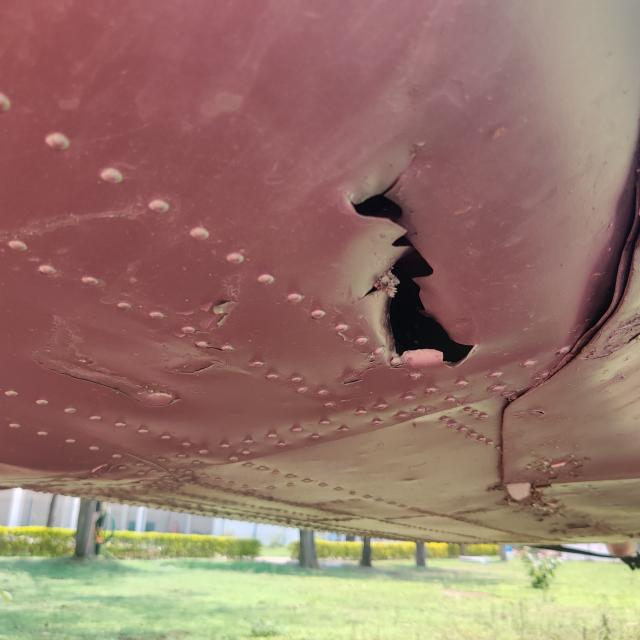crack: (333, 133, 486, 382)
paint-off: (183, 288, 244, 354)
